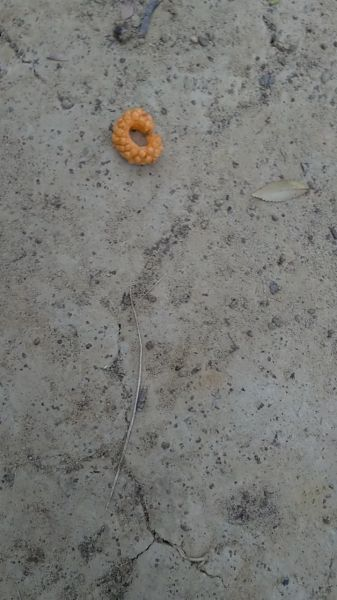eggs: (104, 97, 170, 174)
